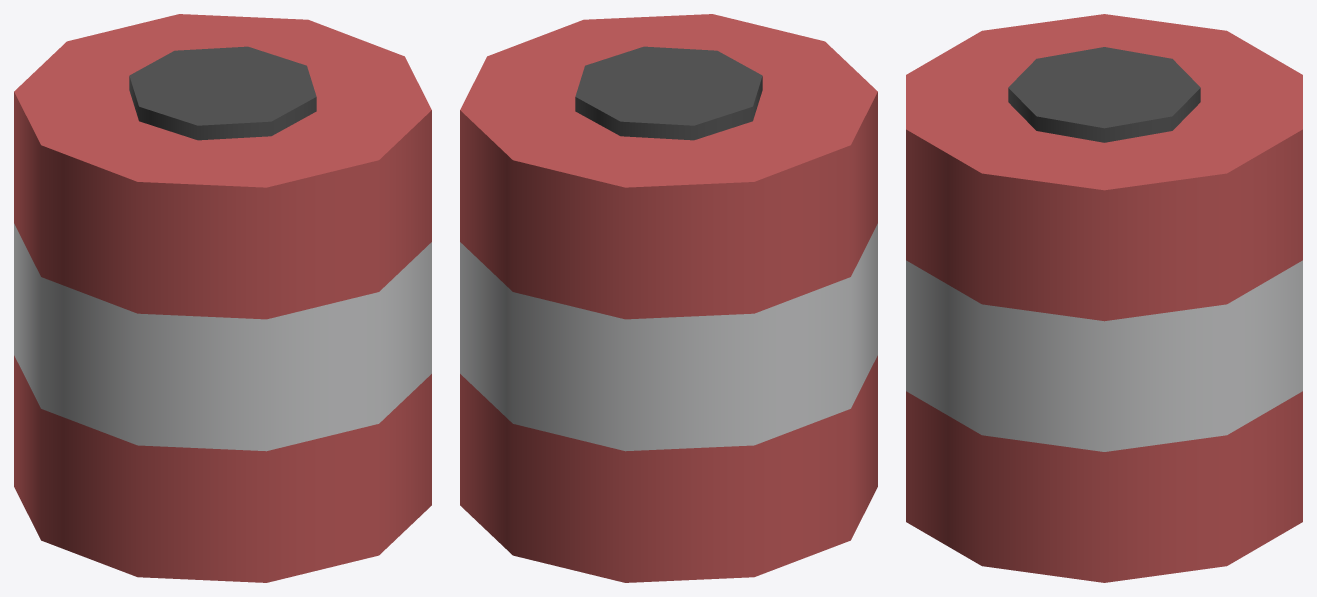
File: tires.glb
3 renders of one model, left to right at view 1: azimuth 30°, elevation 25°; view 2: azimuth 150°, elevation 25°; view 3: azimuth 270°, elevation 25°, orthographic.
Visible parts, largest first — view 1: stack; view 2: stack; view 3: stack.
Boxes of the visible parts, x1,y1,x2,y2 form: stack: (14,14,431,582); stack: (460,14,877,582); stack: (906,14,1302,582).
Size of the model in its own units: 1.62 by 1.75 by 1.55.
